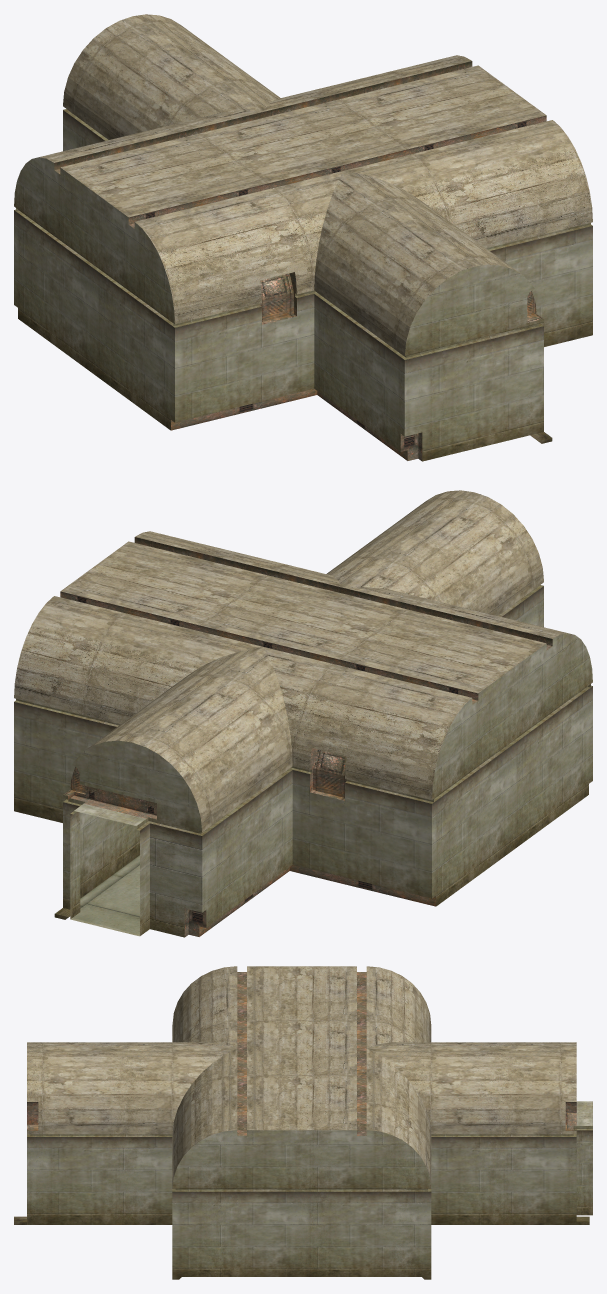
File: poi_all_bunker_allum_mine_r27_smallroom_69_mesh_r27.fbx
The picture shows the model from 3 angles, top to bottom: view 1: azimuth 30°, elevation 25°; view 2: azimuth 150°, elevation 25°; view 3: azimuth 270°, elevation 25°; orthographic projection. The views are drawn at different scales.
Visible parts, largest first — view 1: mesh_node; view 2: mesh_node; view 3: mesh_node.
Part boxes in pixels (left/top/right/bottom): mesh_node: left=14, top=14, right=592, bottom=461; mesh_node: left=14, top=490, right=592, bottom=937; mesh_node: left=14, top=966, right=592, bottom=1279.
Size of the model in its own units: 12 by 5.1 by 17.9.
